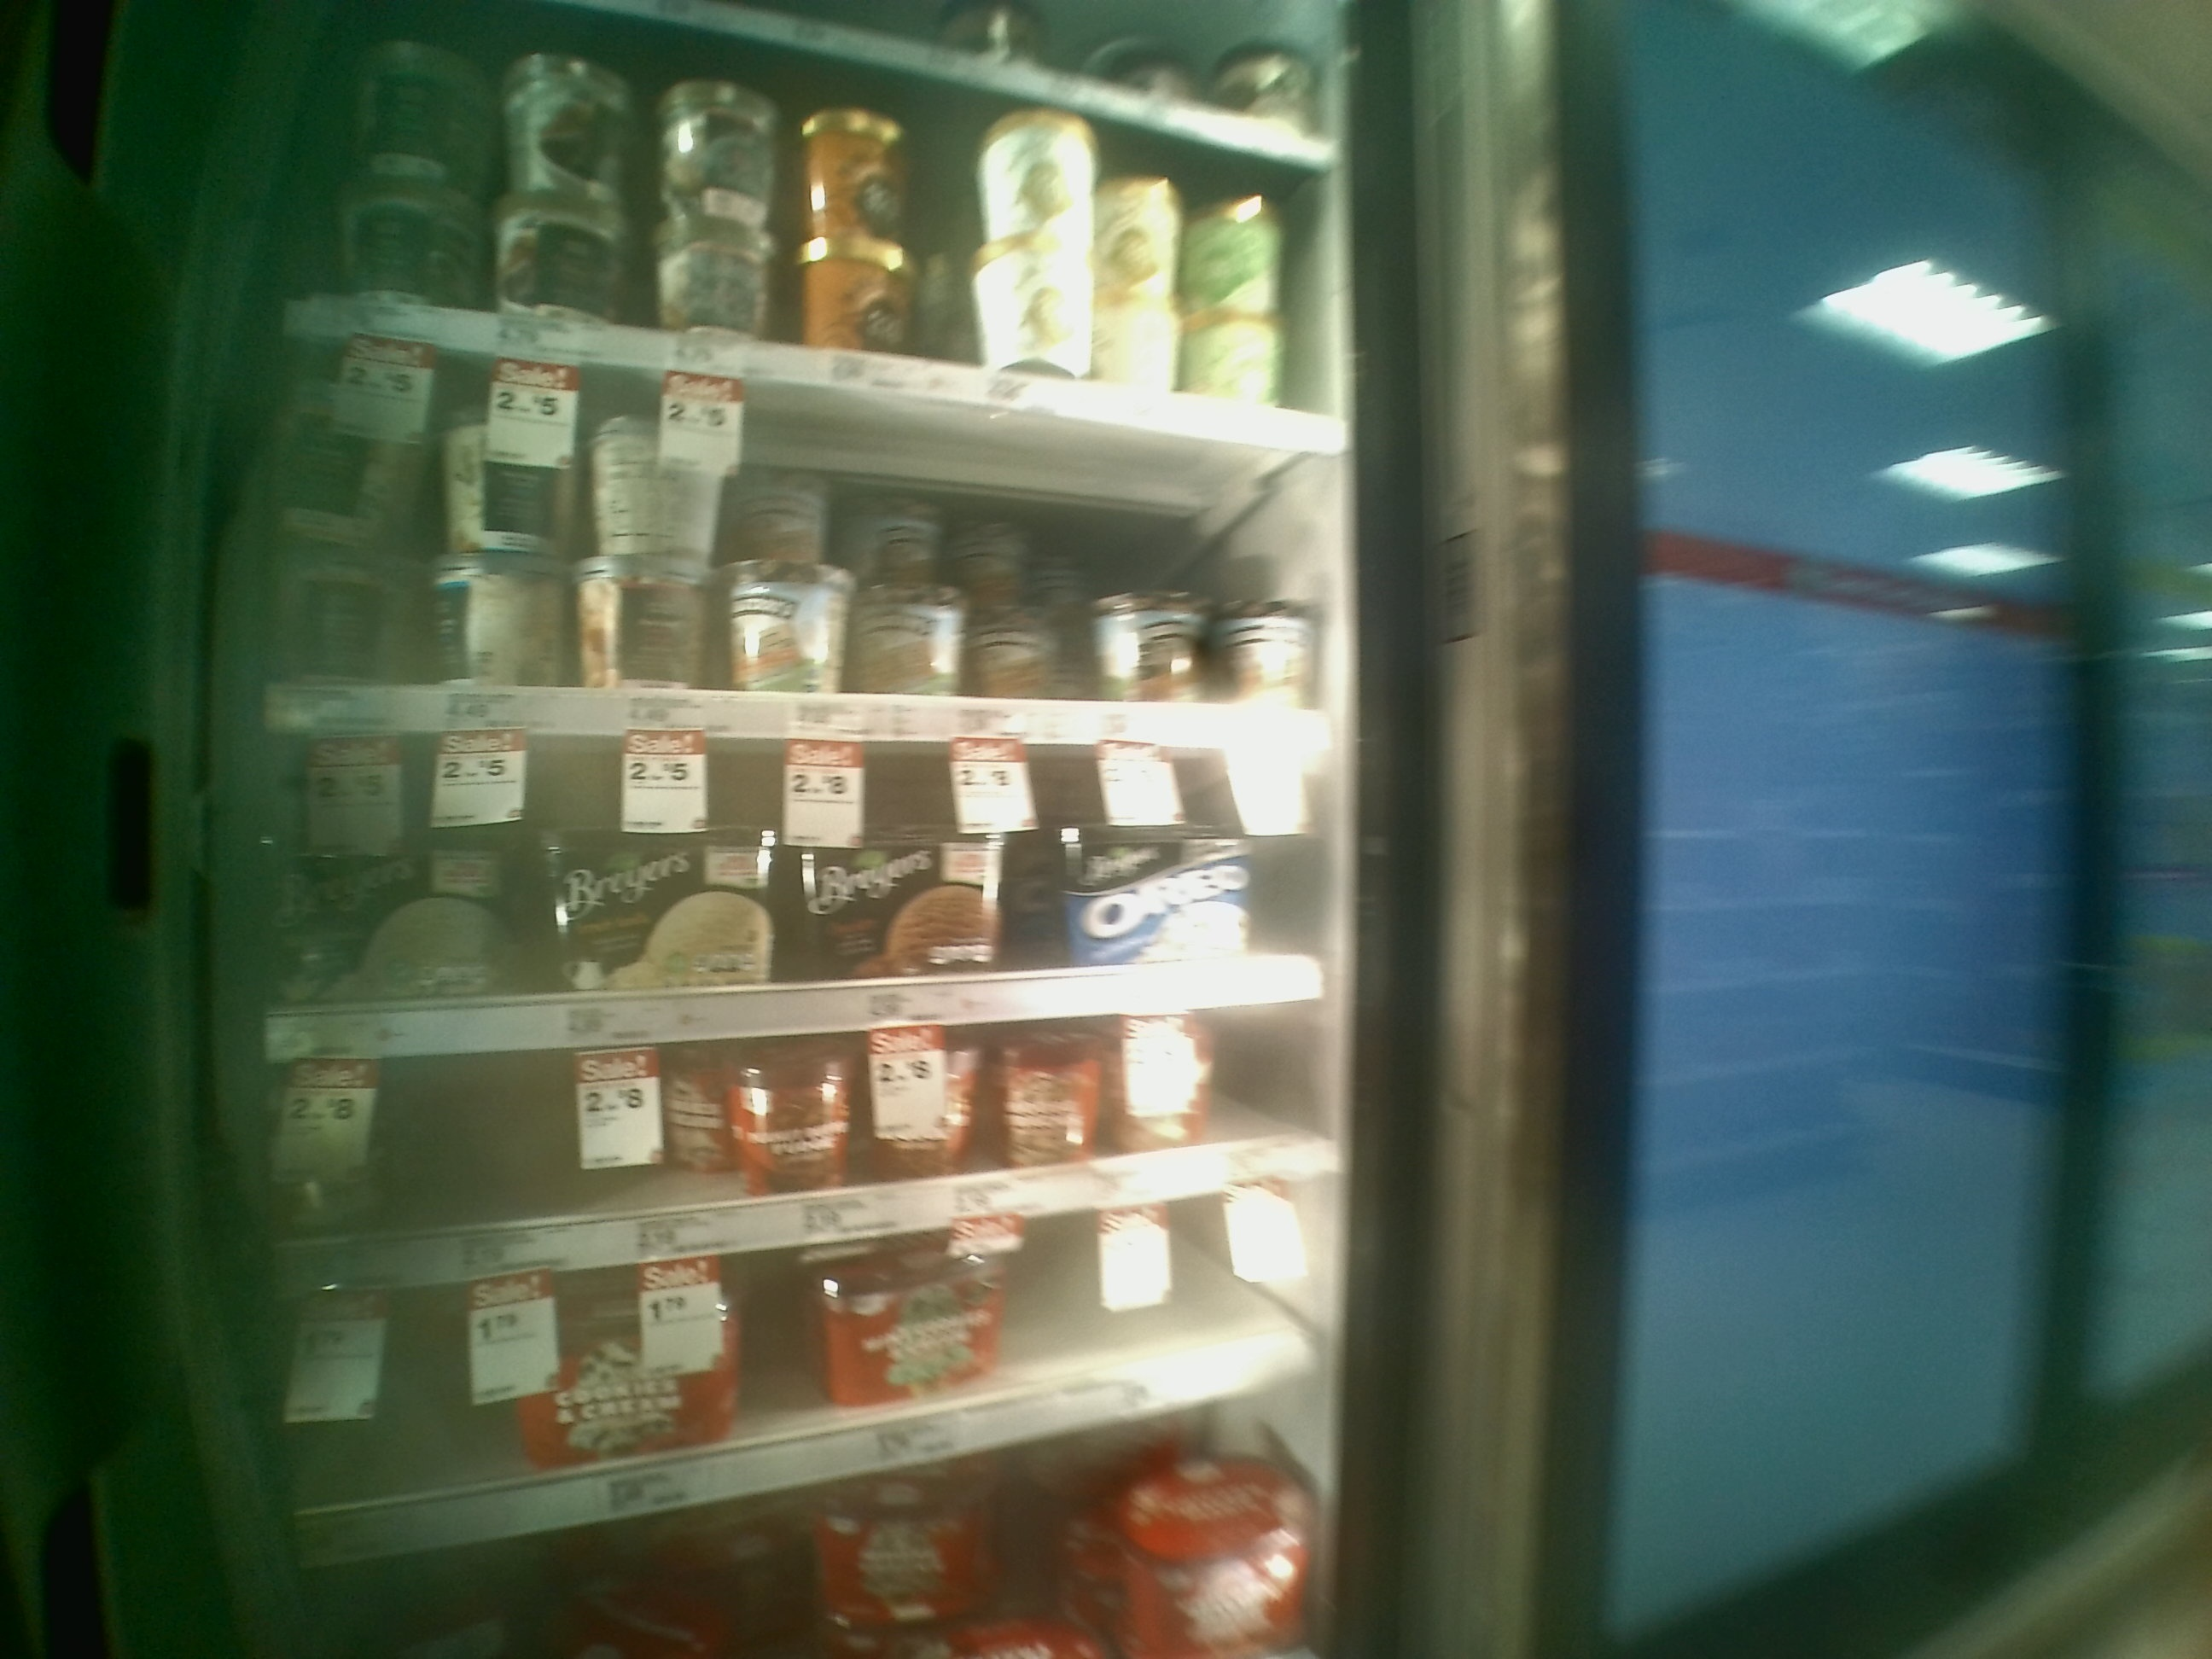shelf: (273, 336, 1359, 734), (261, 734, 1350, 1070), (258, 993, 1350, 1297)
